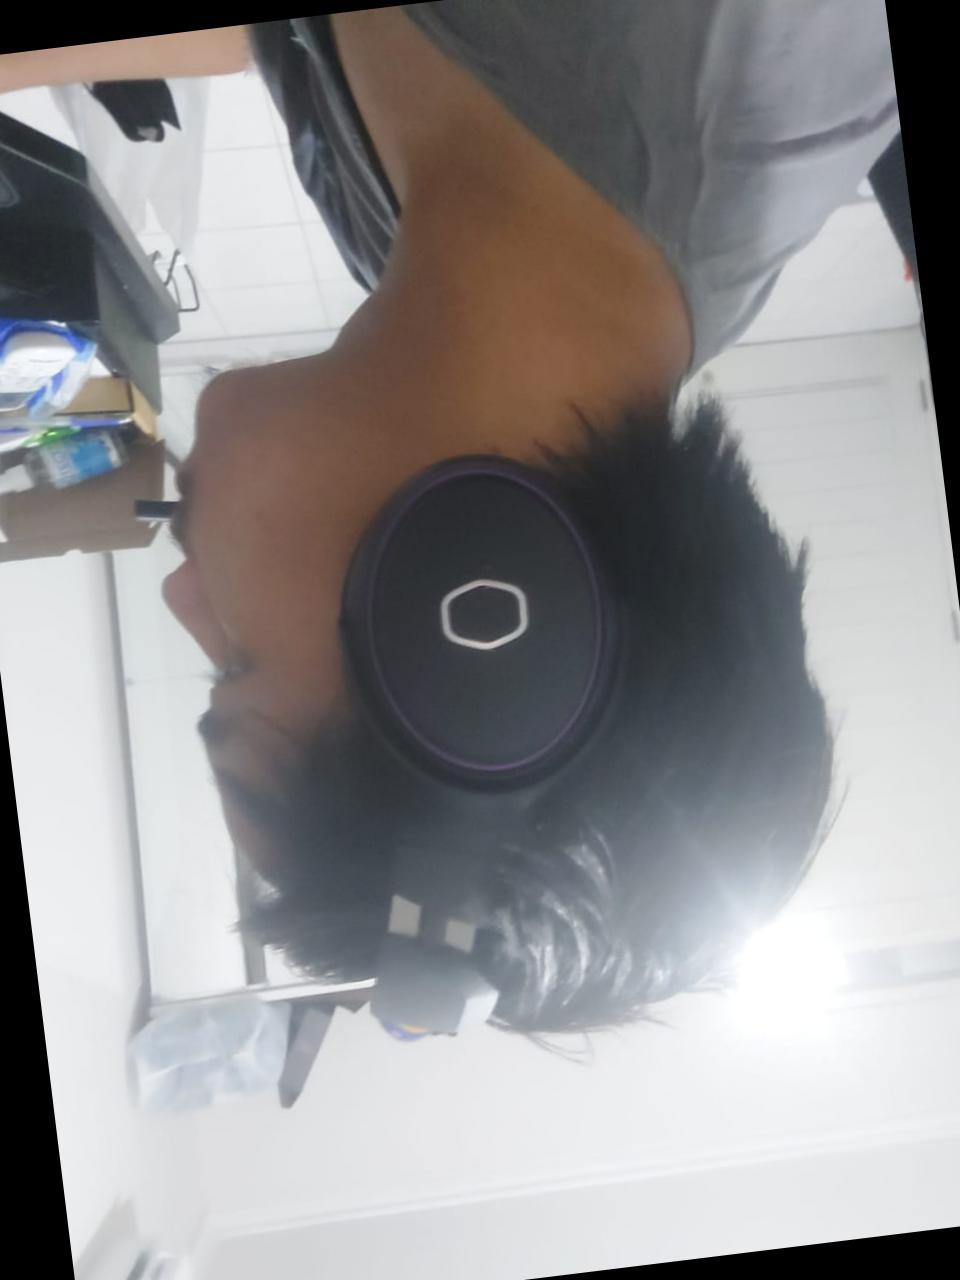Headset: (278, 432, 682, 1055)
